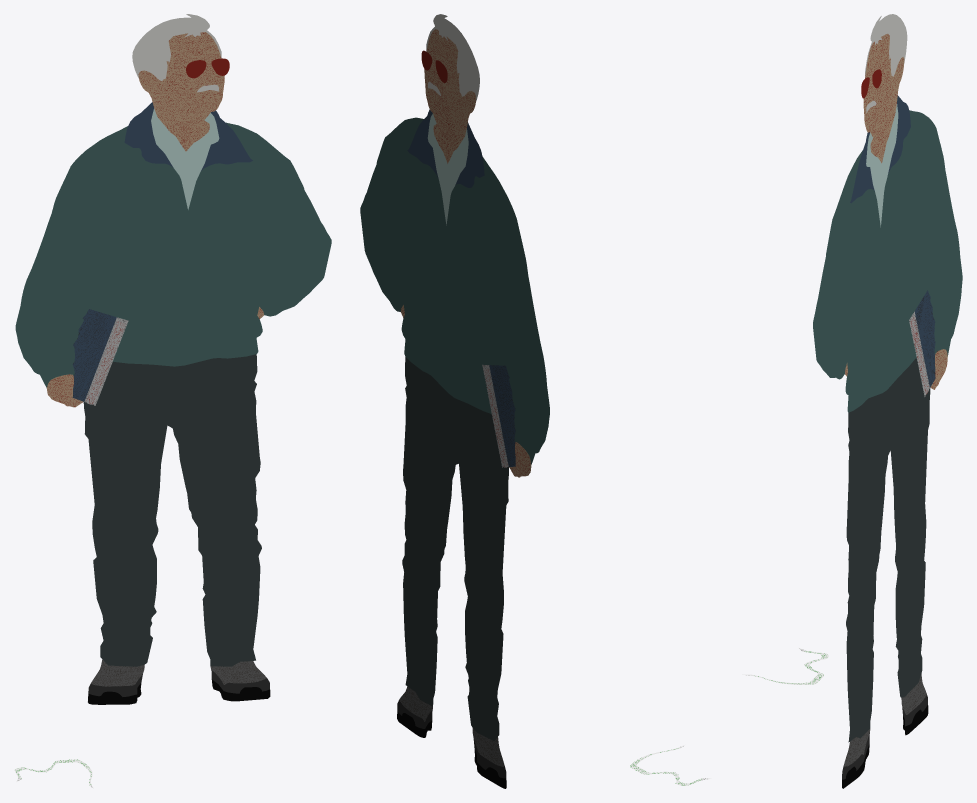
The model's file is jumperwire.dae.
3 views of the same model, side by side, from view 1: azimuth 30°, elevation 25°; view 2: azimuth 150°, elevation 25°; view 3: azimuth 270°, elevation 25° (orthographic). The views are drawn at different scales.
Parts seen in each view (by area): view 1: Steve (×14); view 2: Steve (×9); view 3: Steve (×11).
Part boxes in pixels (box(x1,y1,x2,y2)): Steve (×14): box(15, 14, 331, 704); Steve (×9): box(360, 14, 549, 766); Steve (×11): box(813, 14, 962, 766).
Size of the model in its own units: 32.65 by 18.02 by 66.71.
